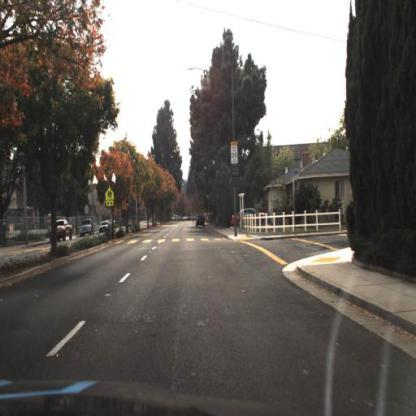car: (51, 220, 74, 243), (78, 216, 96, 239), (79, 218, 95, 238), (232, 212, 249, 230), (238, 206, 259, 220), (195, 210, 209, 230), (97, 220, 112, 234)
